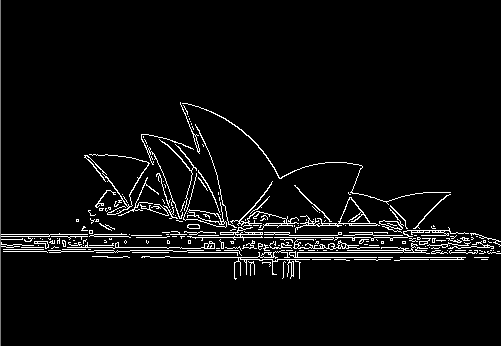opera house: (70, 92, 446, 243)
